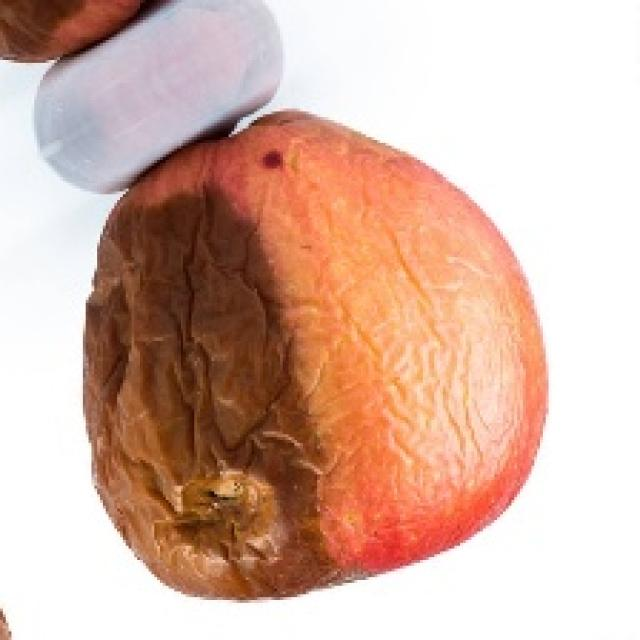rotten_apple: (93, 109, 542, 586)
